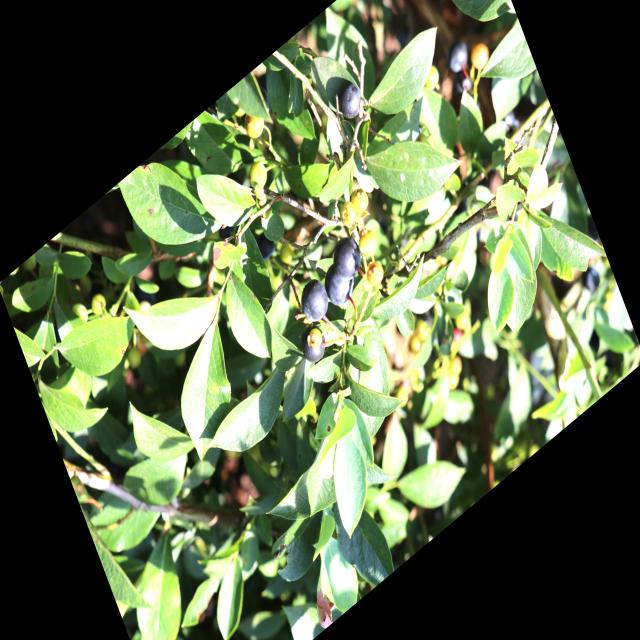blueberry: (294, 268, 334, 330), (320, 255, 358, 313), (328, 230, 366, 287), (298, 319, 330, 368), (336, 78, 366, 126), (438, 36, 470, 78), (251, 222, 280, 267)
blueberry-halfripe: (467, 37, 492, 75)
blueberry-unripe: (241, 104, 269, 145), (355, 225, 381, 262), (336, 195, 361, 232), (363, 255, 387, 291), (348, 182, 372, 218), (246, 157, 270, 193), (306, 323, 326, 353)
